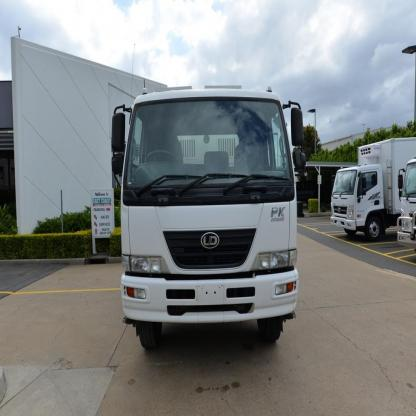dump_truck: (103, 71, 302, 355), (328, 119, 416, 262)
